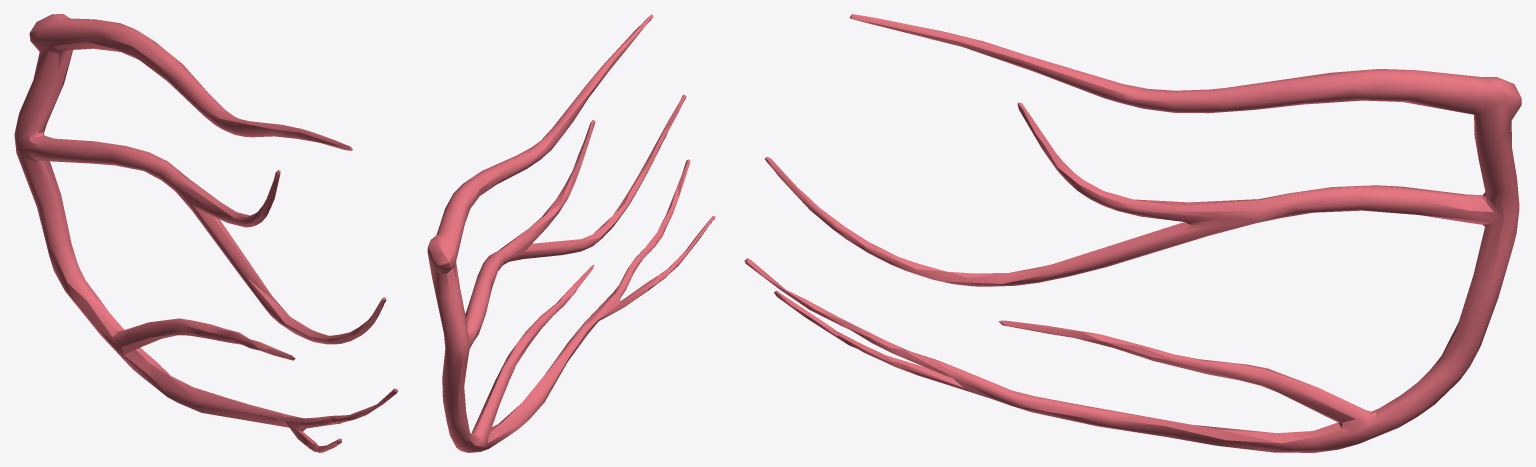
Rendered from fma79585_fj5164.glb.
3 renders of one model, left to right at view 1: azimuth 30°, elevation 25°; view 2: azimuth 150°, elevation 25°; view 3: azimuth 270°, elevation 25°, orthographic. The views are drawn at different scales.
Visible parts, largest first — view 1: FMA79585_FJ5164; view 2: FMA79585_FJ5164; view 3: FMA79585_FJ5164.
Part boxes in pixels (x1=…): FMA79585_FJ5164: x1=14, y1=14, x2=398, y2=452; FMA79585_FJ5164: x1=427, y1=14, x2=715, y2=452; FMA79585_FJ5164: x1=744, y1=14, x2=1521, y2=452.
Bounding box in the file's own units: 0.0046 × 0.0223 × 0.0357.
